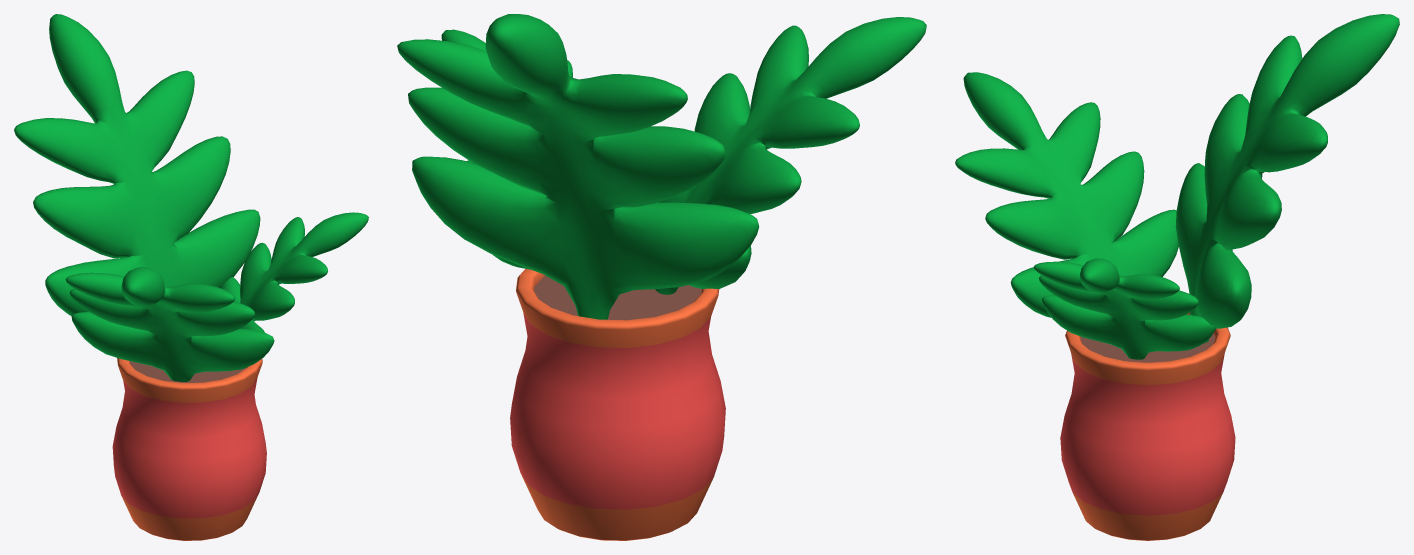
The model's file is Town_16_Plant_3.glb.
3 views of the same model, side by side, from view 1: azimuth 30°, elevation 25°; view 2: azimuth 150°, elevation 25°; view 3: azimuth 270°, elevation 25° (orthographic). The views are drawn at different scales.
Visible parts, largest first — view 1: Town_16_Plant_3; view 2: Town_16_Plant_3; view 3: Town_16_Plant_3.
Part boxes in pixels (x1=…): Town_16_Plant_3: x1=14, y1=14, x2=368, y2=540; Town_16_Plant_3: x1=397, y1=14, x2=926, y2=540; Town_16_Plant_3: x1=955, y1=14, x2=1399, y2=540.
Bounding box in the file's own units: 1.13 × 1.56 × 1.29.
Materials: 1 (1 with a texture image).
